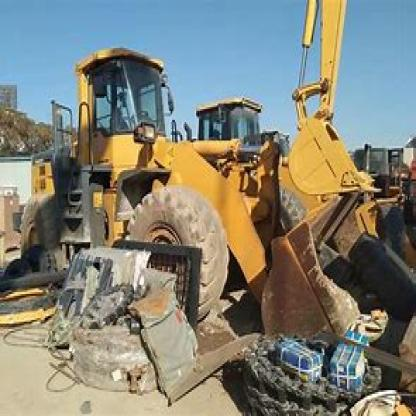bull_dozer/loader/grader: (14, 44, 381, 354)
